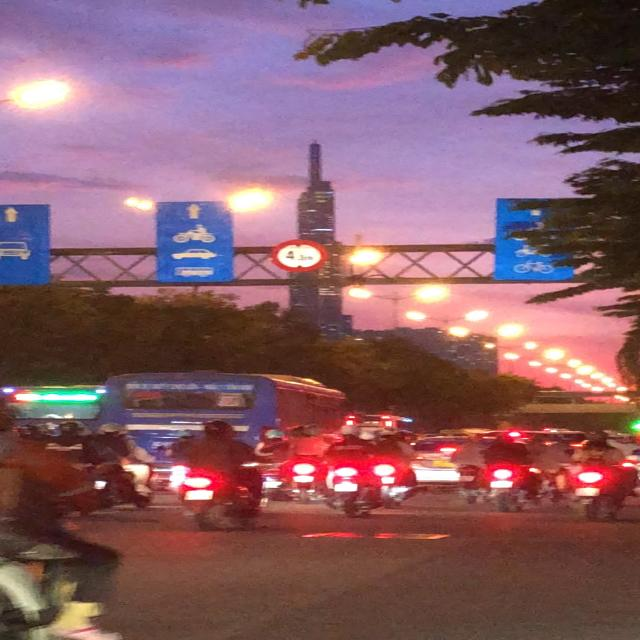Bien bao han che chieu cao: (268, 235, 337, 275)
